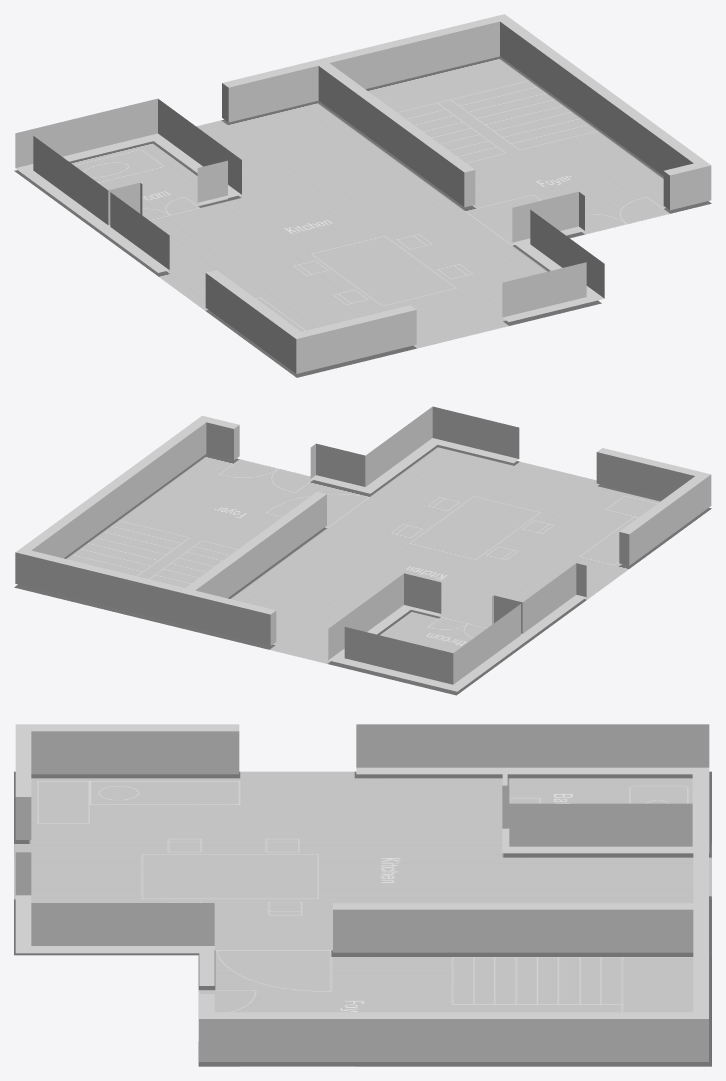
Rendered from 1floor.glb.
3 renders of one model, top to bottom at view 1: azimuth 30°, elevation 25°; view 2: azimuth 150°, elevation 25°; view 3: azimuth 270°, elevation 25°, orthographic. The views are drawn at different scales.
Parts seen in each view (by area): view 1: Plane.001, Plane; view 2: Plane.001, Plane; view 3: Plane.001, Plane.
Part boxes in pixels (box(x1,y1,x2,y2)): Plane.001: box(14, 56, 711, 377); Plane: box(15, 14, 711, 373); Plane.001: box(14, 445, 711, 695); Plane: box(15, 406, 711, 691); Plane.001: box(14, 771, 711, 1066); Plane: box(15, 724, 709, 1061).
Size of the model in its own units: 119 by 8.85 by 119.
1 material, 1 textured.
